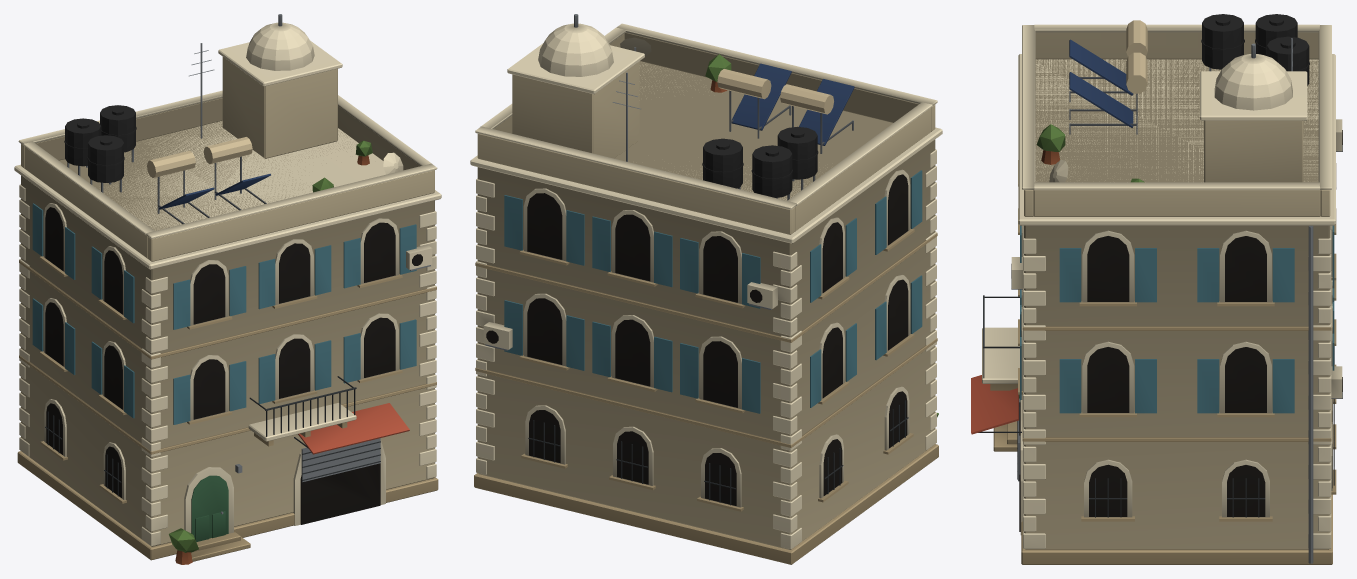
The model's file is jlm_house.glb.
The picture shows the model from 3 angles, left to right: view 1: azimuth 30°, elevation 25°; view 2: azimuth 150°, elevation 25°; view 3: azimuth 270°, elevation 25°; orthographic projection. The views are drawn at different scales.
Parts seen in each view (by area): view 1: jlm_house; view 2: jlm_house; view 3: jlm_house.
Part boxes in pixels (bbox=[...]): jlm_house: bbox=[14, 14, 441, 564]; jlm_house: bbox=[470, 14, 942, 564]; jlm_house: bbox=[971, 14, 1342, 564].
Bounding box in the file's own units: 10.34 × 14.05 × 9.71.
